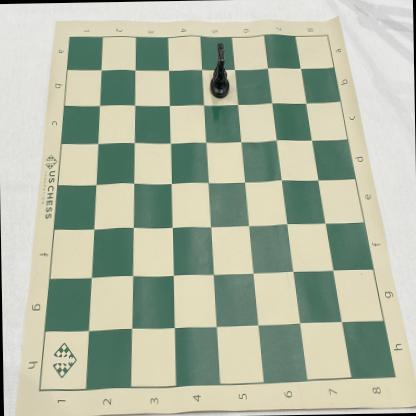knight: (208, 42, 230, 99)
